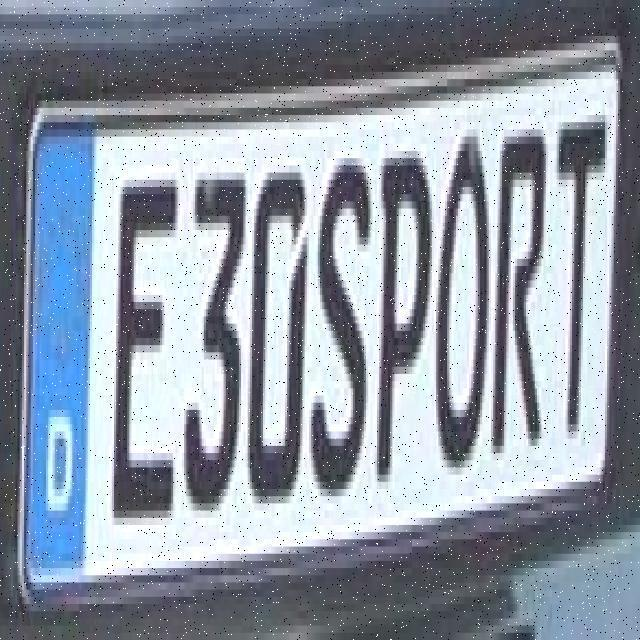LicensePlate: (7, 24, 632, 630)
